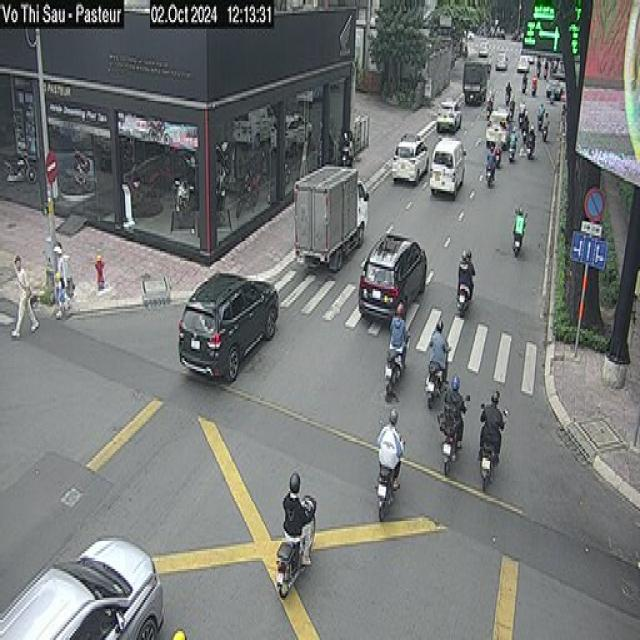car: (0, 536, 164, 638), (178, 271, 278, 382), (358, 224, 428, 324), (427, 138, 477, 208), (391, 131, 429, 185), (484, 114, 515, 155), (436, 98, 462, 131)
motorcycle: (275, 493, 316, 598), (375, 438, 405, 520), (434, 413, 463, 482), (384, 333, 408, 402), (477, 433, 501, 499), (424, 347, 448, 409), (475, 158, 500, 197), (456, 278, 474, 316), (513, 227, 525, 264)
person: (282, 471, 314, 567), (10, 253, 39, 338), (376, 407, 404, 489), (478, 389, 508, 464), (442, 373, 468, 458), (388, 300, 410, 369), (428, 318, 450, 384), (51, 240, 69, 318), (456, 249, 474, 302), (512, 209, 528, 255), (340, 128, 356, 157), (481, 150, 493, 170)
truck: (291, 160, 369, 271), (465, 59, 490, 110)
